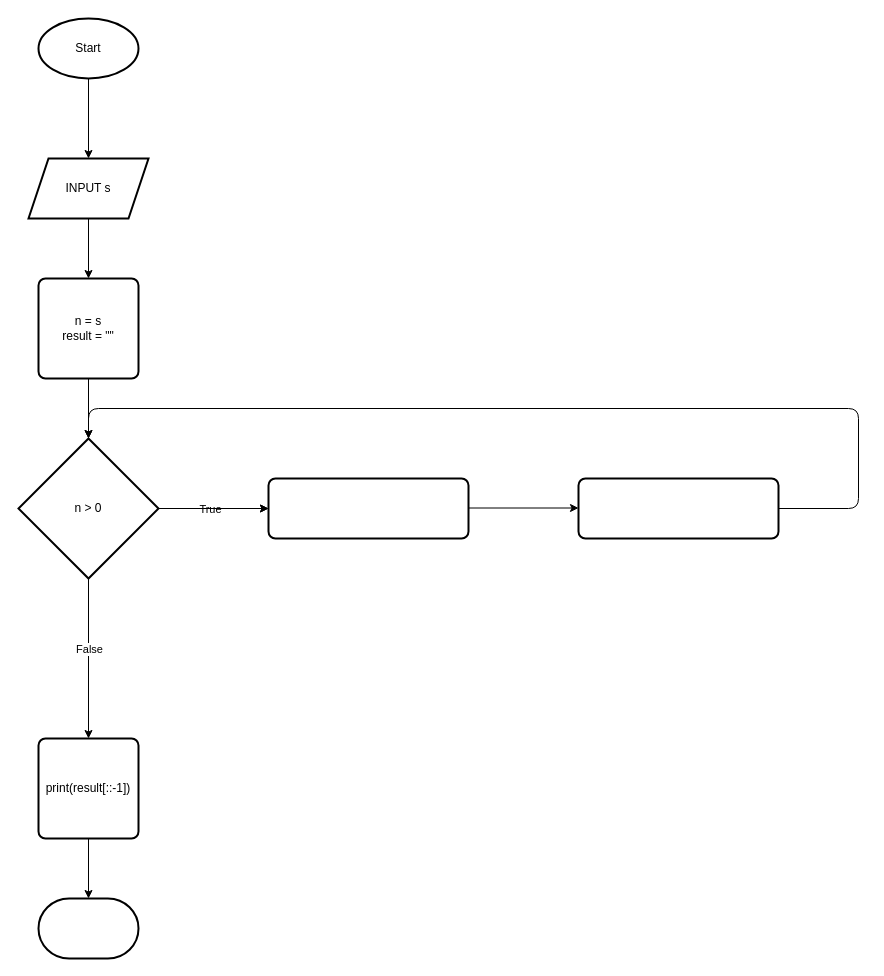
Image size: 884x976. Some labels were removed from this diagram. The centre of each missing label's shape, as x and y in pixels:
End: the point at 88,928
n //= 2: the point at 678,508
result += str(n % 2): the point at 368,508
